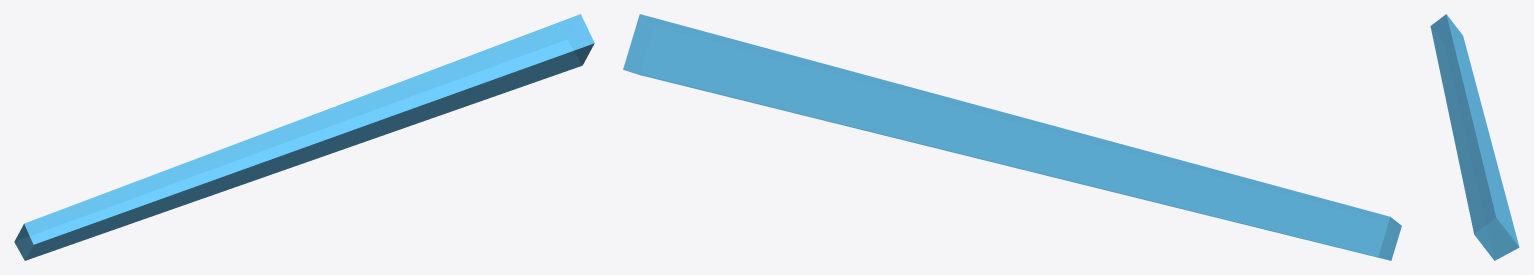
File: Event_421278790_HErechit_20.fbx
3 views of the same model, side by side, from view 1: azimuth 30°, elevation 25°; view 2: azimuth 150°, elevation 25°; view 3: azimuth 270°, elevation 25° (orthographic). The views are drawn at different scales.
Visible parts, largest first — view 1: Model; view 2: Model; view 3: Model.
Part boxes in pixels (box(x1,y1,x2,y2)): Model: box(14, 14, 594, 260); Model: box(623, 14, 1401, 260); Model: box(1430, 14, 1519, 260).
Bounding box in the file's own units: 3.97 × 0.5278 × 0.6172.
